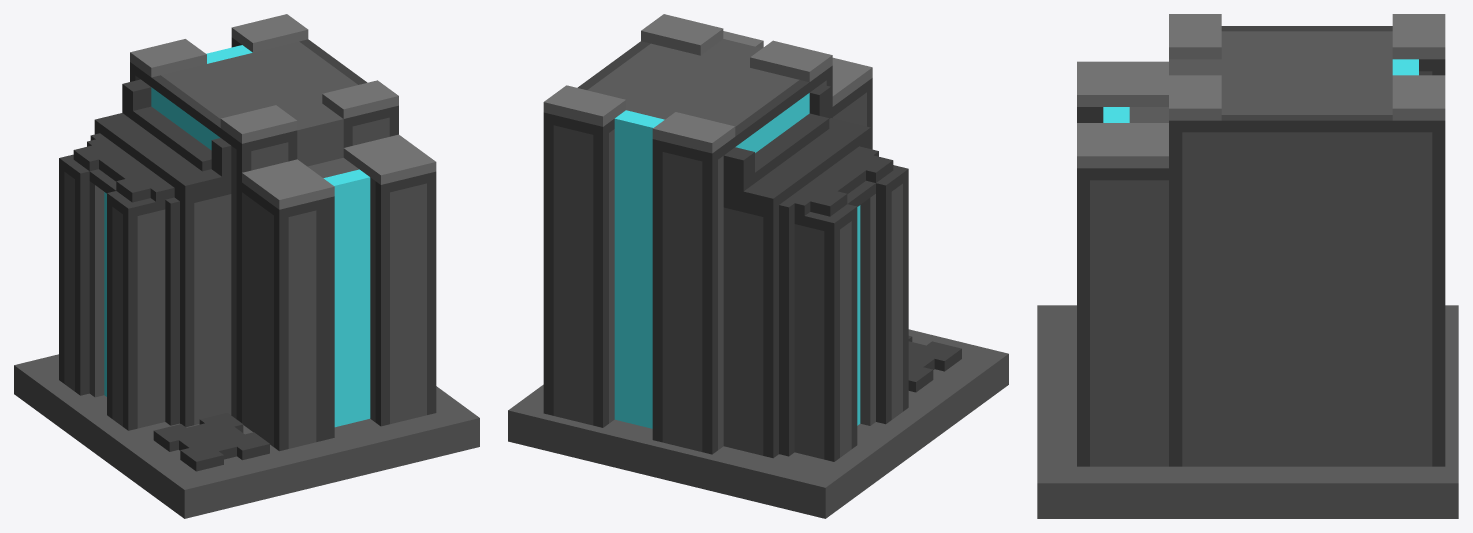
The model's file is _g_house_2.obj.
3 renders of one model, left to right at view 1: azimuth 30°, elevation 25°; view 2: azimuth 150°, elevation 25°; view 3: azimuth 270°, elevation 25°, orthographic. The views are drawn at different scales.
Size of the model in its own units: 3.2 by 3.3 by 3.2.
